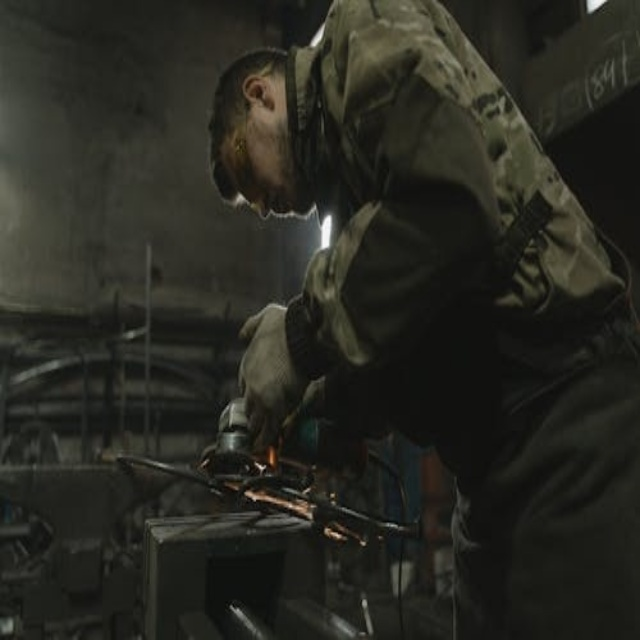Gafas: (223, 71, 260, 211)
Guantes: (230, 269, 325, 452)
Sin_mascara: (256, 106, 302, 221)
